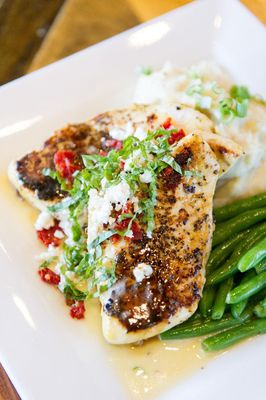curry: (0, 0, 266, 378)
sandwich: (10, 101, 253, 333)
